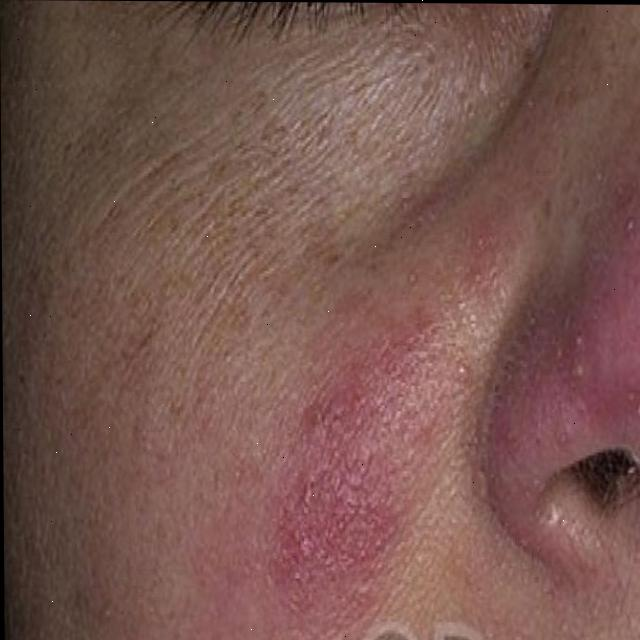Rosacea: (262, 294, 429, 635)
